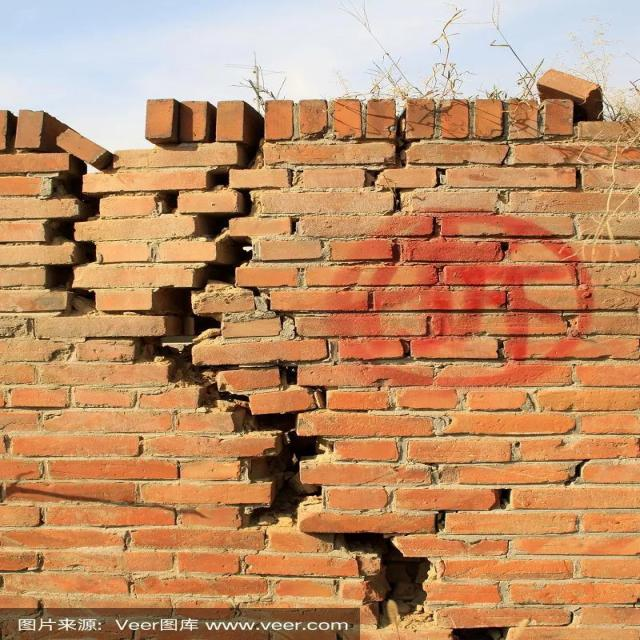brack_crack: (150, 117, 286, 334), (132, 342, 336, 461), (39, 144, 116, 318), (336, 526, 438, 625), (232, 465, 331, 541)
